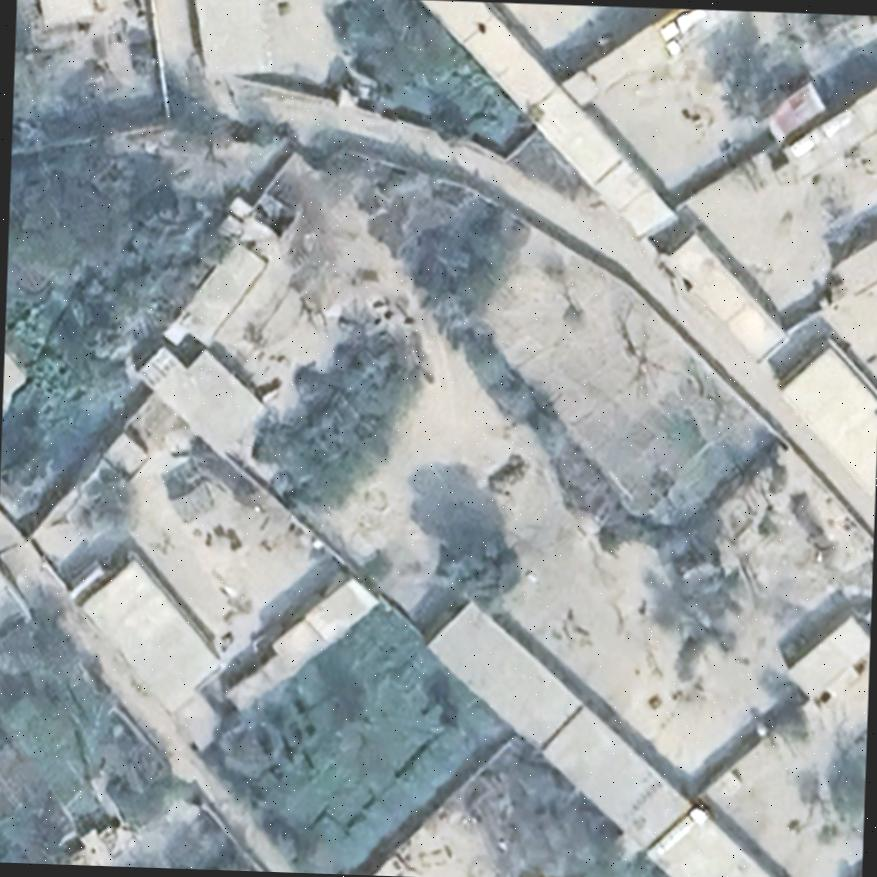Solarpanel: (133, 342, 187, 393), (613, 776, 665, 828)
